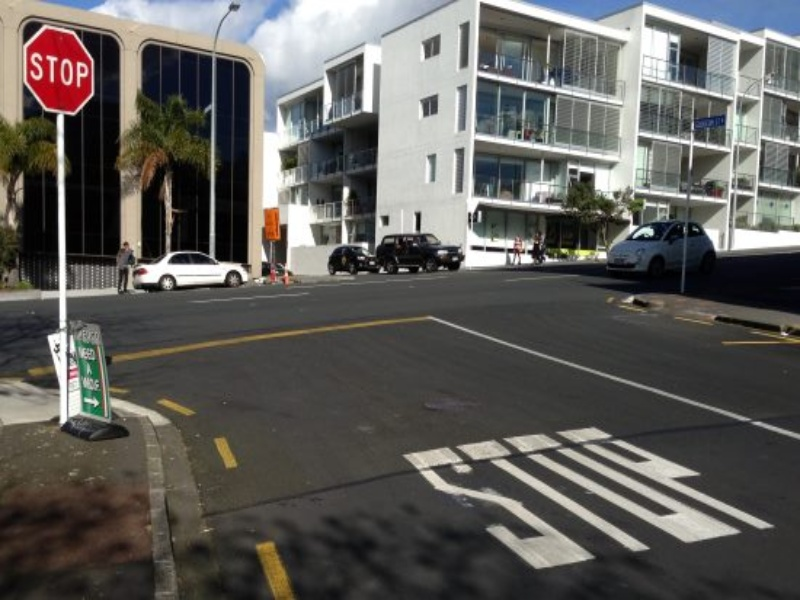stop sign: (20, 22, 98, 119)
